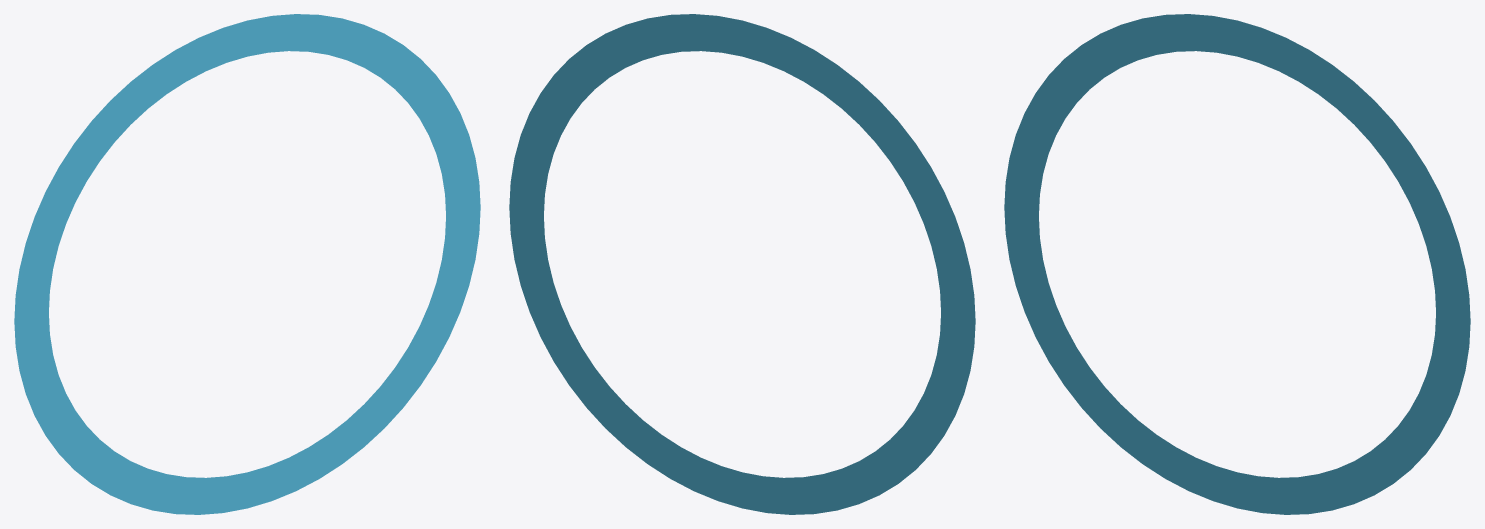
Rendered from progress_bar.gltf.
3 views of the same model, side by side, from view 1: azimuth 30°, elevation 25°; view 2: azimuth 150°, elevation 25°; view 3: azimuth 330°, elevation 25° (orthographic).
Visible parts, largest first — view 1: progress_bar; view 2: progress_bar; view 3: progress_bar.
Boxes of the visible parts, <box> form: progress_bar: <box>14,14,480,514</box>; progress_bar: <box>509,14,975,514</box>; progress_bar: <box>1004,14,1470,514</box>.
Size of the model in its own units: 0.0859 by 0.0859 by 1.16e-09.
1 material, 1 textured.
